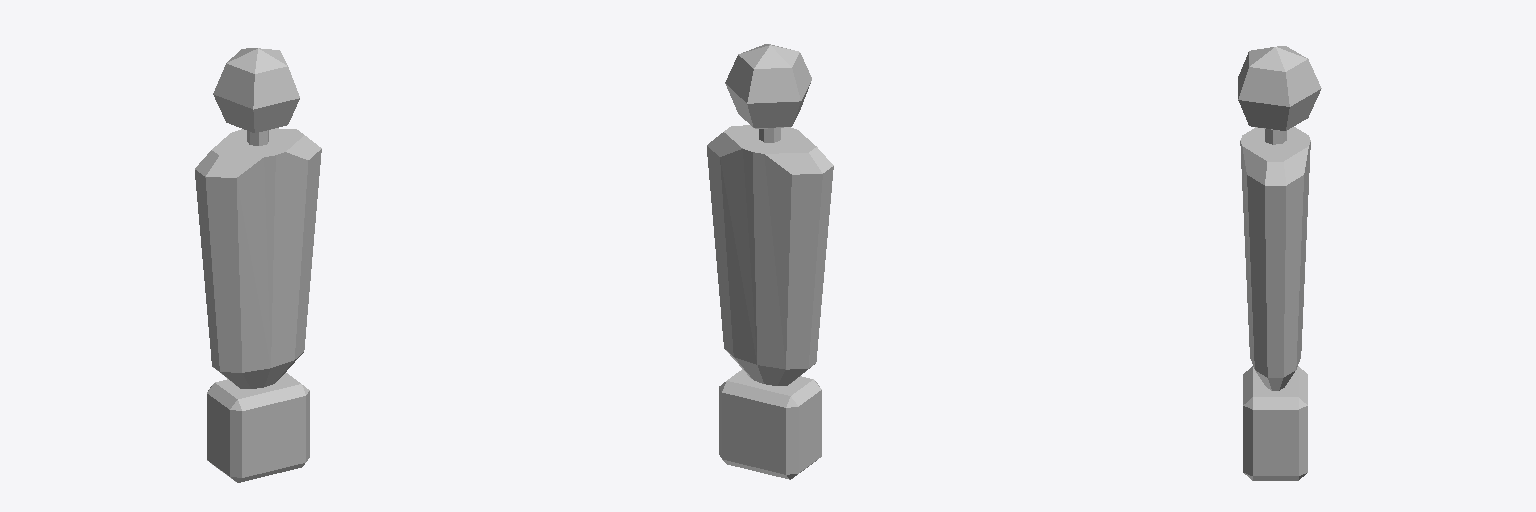
File: pin.obj
The picture shows the model from 3 angles: view 1: azimuth 30°, elevation 25°; view 2: azimuth 150°, elevation 25°; view 3: azimuth 270°, elevation 25°; orthographic projection.
Parts seen in each view (by area): view 1: Sphere_Sphere.001; view 2: Sphere_Sphere.001; view 3: Sphere_Sphere.001.
Part boxes in pixels (x1,y1,x2,y2): Sphere_Sphere.001: (195, 48, 321, 482); Sphere_Sphere.001: (707, 44, 833, 479); Sphere_Sphere.001: (1238, 46, 1321, 480).
Size of the model in its own units: 2.91 by 10 by 1.81.